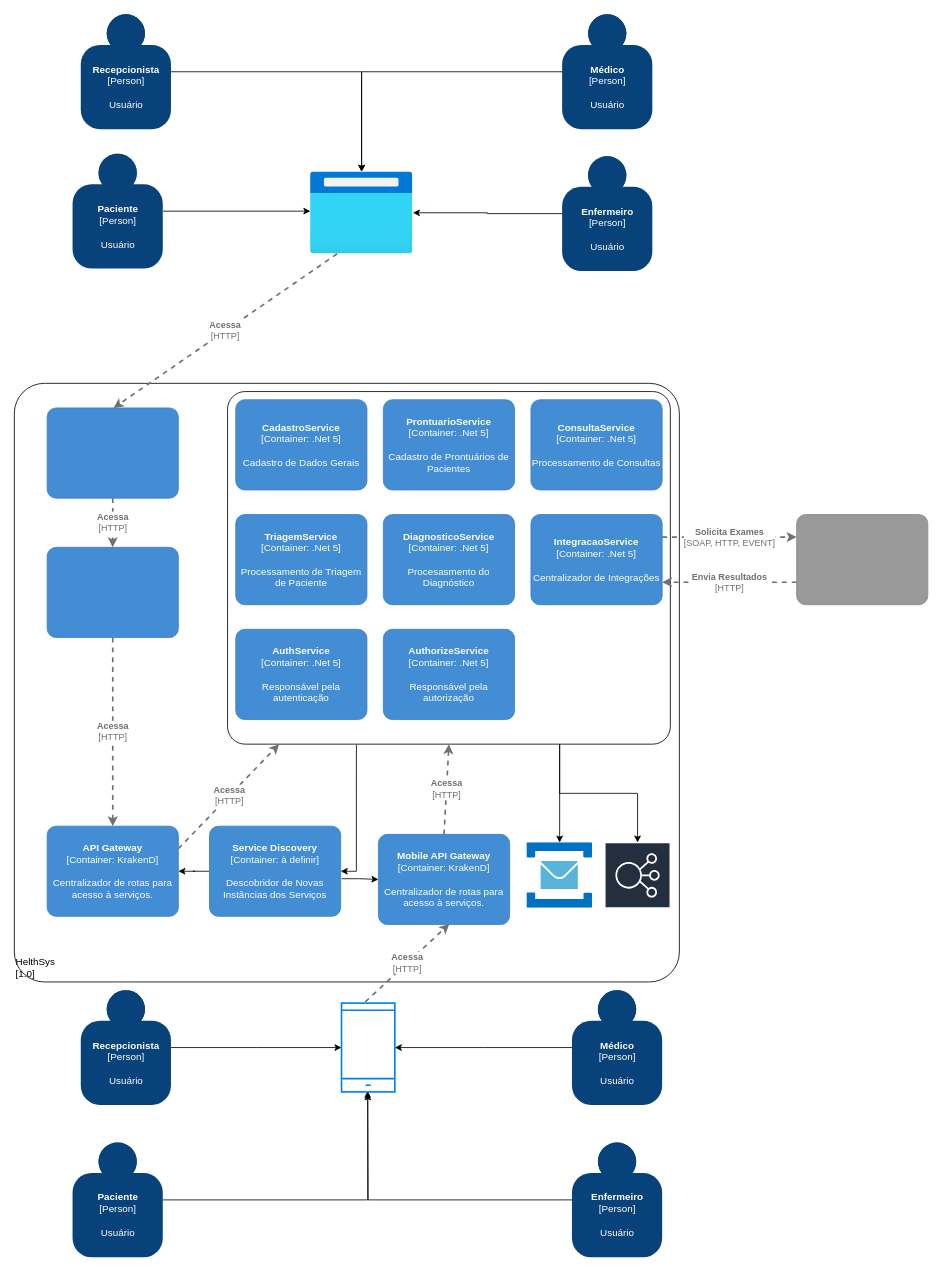
Image size: 942x1271. Some labels were removed from this diagram. The shapes that lost their labels are listed below. From the top down, each one's box as (x1, y1, x2, y2) in pixels, then its label:
(46, 407, 178, 498): LoadBalance [Container: à Definir] LoadBalance
(227, 391, 670, 744): Services [Azure]
(796, 514, 928, 605): Software [Software System] Sistemas de Laboratórios
(46, 547, 178, 638): Frontend [Container: React] Interface Web
(526, 842, 592, 908): Event Bus
(604, 842, 670, 933): Elastic Search
